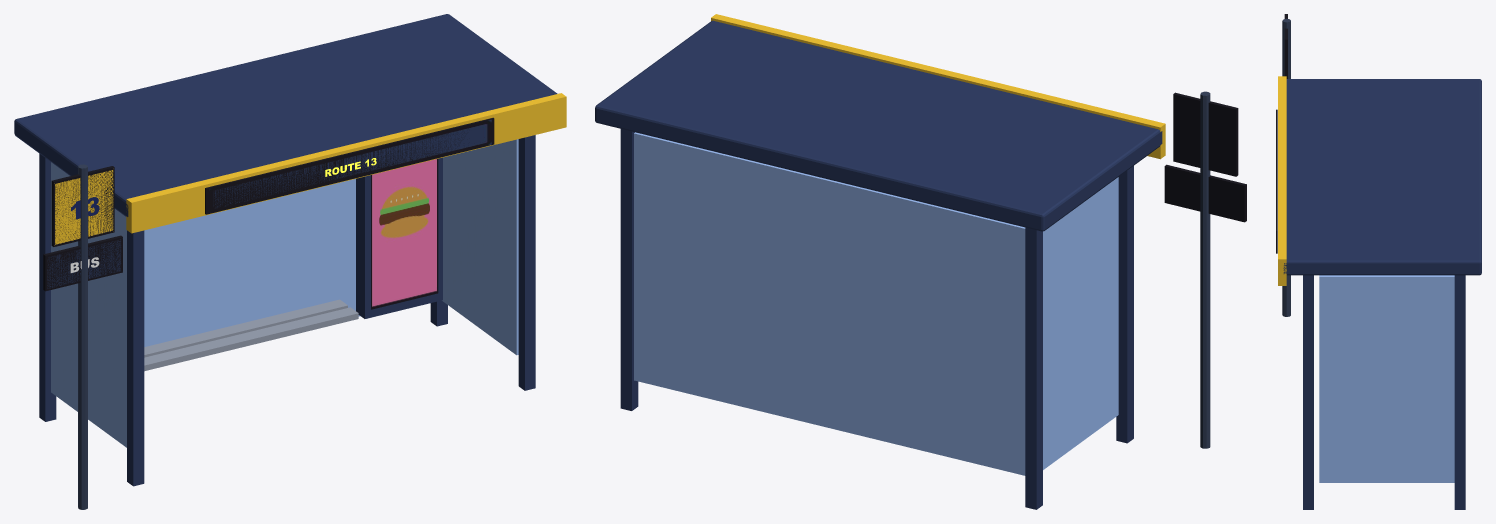
The model's file is bus_stop.glb.
The picture shows the model from 3 angles, left to right: view 1: azimuth 30°, elevation 25°; view 2: azimuth 150°, elevation 25°; view 3: azimuth 270°, elevation 25°; orthographic projection. The views are drawn at different scales.
Visible parts, largest first — view 1: bus_stop; view 2: bus_stop; view 3: bus_stop.
Boxes of the visible parts, x1,y1,x2,y2 form: bus_stop: (14,14,566,509); bus_stop: (595,14,1246,509); bus_stop: (1276,14,1481,509).
Bounding box in the file's own units: 4.76 × 3 × 1.91.
13 materials, 4 textured.
